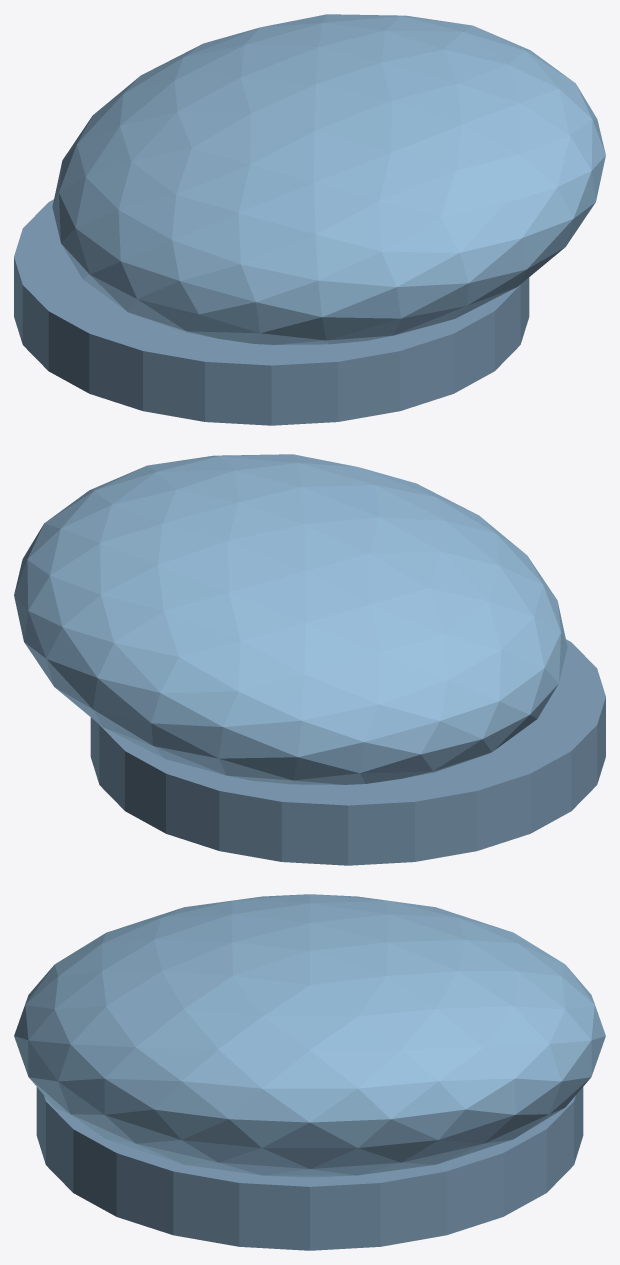
File: rsaf_beret.glb
The picture shows the model from 3 angles, top to bottom: view 1: azimuth 30°, elevation 25°; view 2: azimuth 150°, elevation 25°; view 3: azimuth 270°, elevation 25°; orthographic projection. The views are drawn at different scales.
Parts seen in each view (by area): view 1: beret_crown, beret_band; view 2: beret_crown, beret_band; view 3: beret_crown, beret_band.
Boxes of the visible parts, box(x1,y1,x2,y2) form: beret_crown: box(52, 14, 605, 344); beret_band: box(14, 199, 529, 425); beret_crown: box(14, 454, 567, 784); beret_band: box(90, 639, 605, 865); beret_crown: box(14, 894, 605, 1177); beret_band: box(36, 1087, 583, 1250).
Bounding box in the file's own units: 0.226 × 0.0945 × 0.21.
